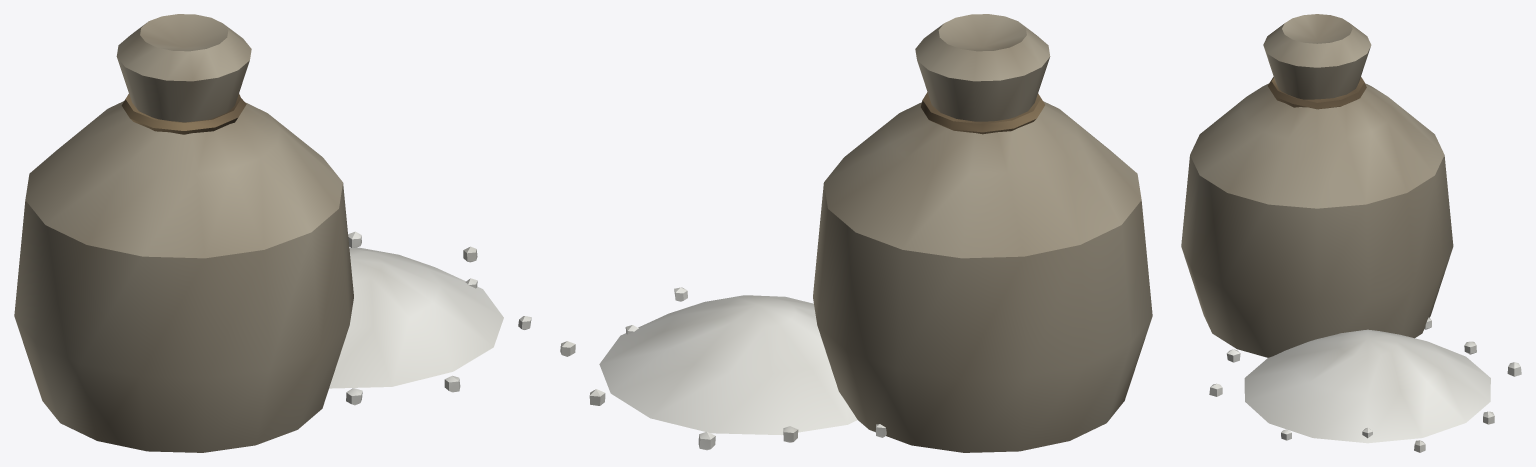
The model's file is grave-salt.glb.
3 views of the same model, side by side, from view 1: azimuth 30°, elevation 25°; view 2: azimuth 150°, elevation 25°; view 3: azimuth 270°, elevation 25° (orthographic). The views are drawn at different scales.
Parts seen in each view (by area): view 1: grave-salt; view 2: grave-salt; view 3: grave-salt.
Part boxes in pixels (left/top/right/bottom): grave-salt: left=14, top=14, right=531, bottom=452; grave-salt: left=560, top=14, right=1152, bottom=452; grave-salt: left=1181, top=14, right=1521, bottom=452.
Bounding box in the file's own units: 0.1838 × 0.1263 × 0.1348.
